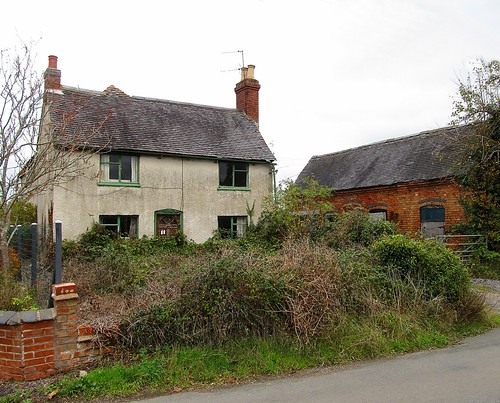low: (14, 51, 286, 283), (291, 114, 500, 279)
